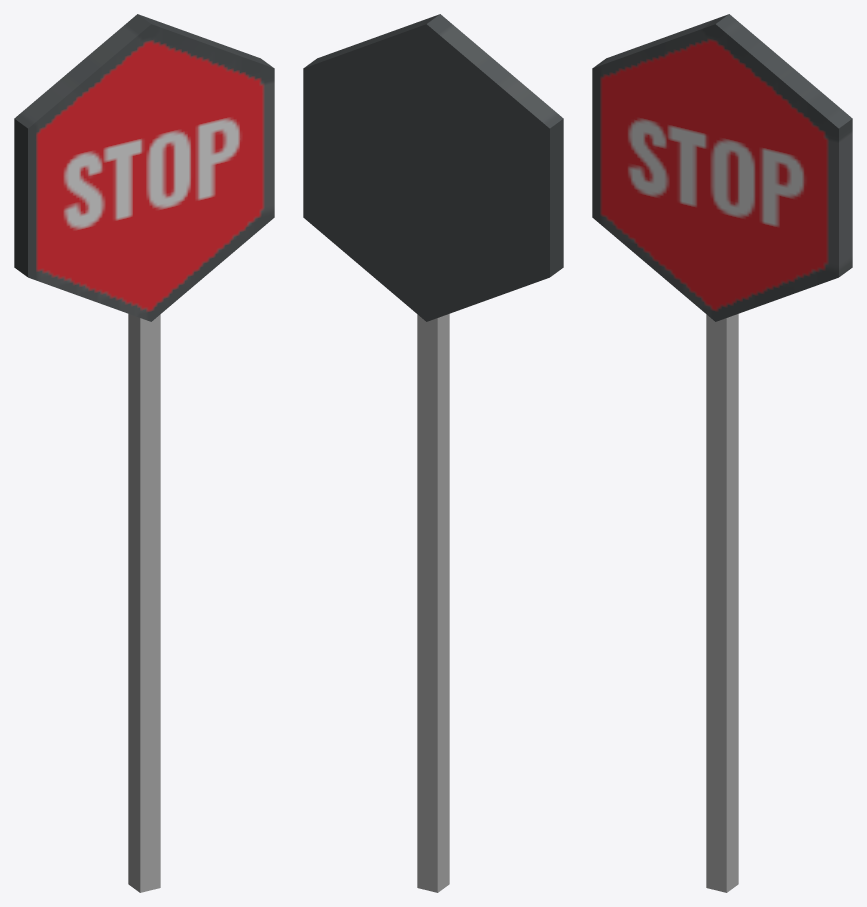
The model's file is props-traffic-sign-stop.glb.
The picture shows the model from 3 angles, left to right: view 1: azimuth 30°, elevation 25°; view 2: azimuth 150°, elevation 25°; view 3: azimuth 330°, elevation 25°; orthographic projection.
Parts seen in each view (by area): view 1: model; view 2: model; view 3: model.
Boxes of the visible parts, box(x1,y1,x2,y2) form: model: box(14, 14, 274, 892); model: box(303, 14, 563, 892); model: box(592, 14, 852, 892).
Size of the model in its own units: 0.7238 by 2.43 by 0.0703.
Materials: 1 (1 with a texture image).
